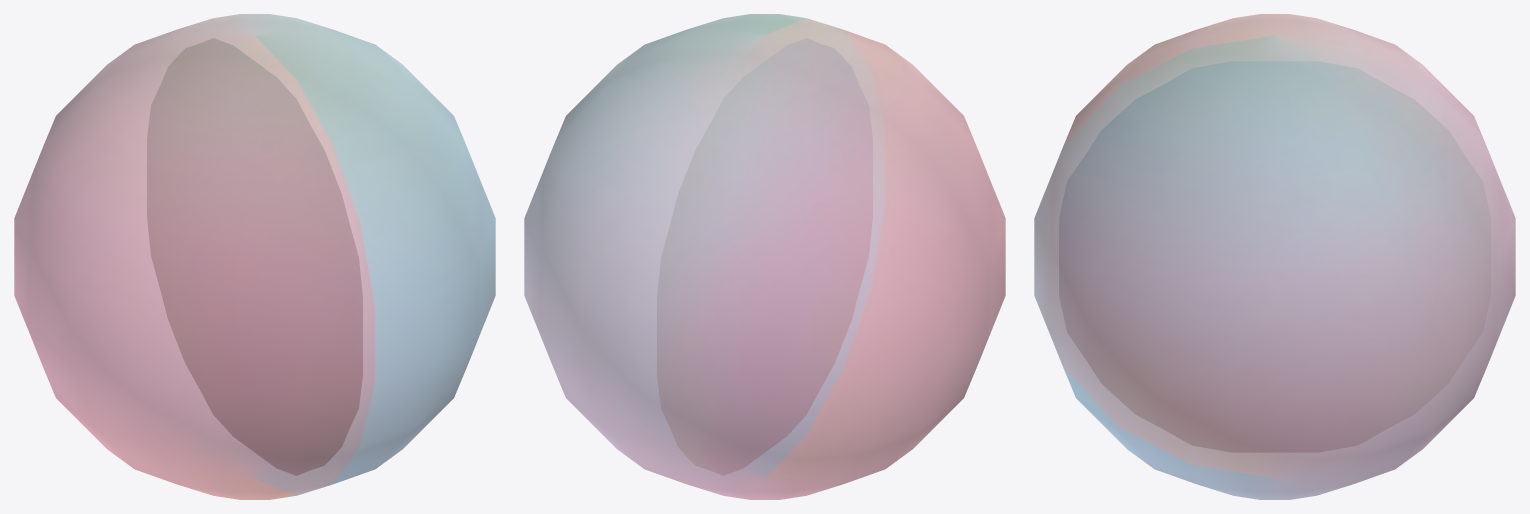
The model's file is bubble_test.glb.
3 views of the same model, side by side, from view 1: azimuth 30°, elevation 25°; view 2: azimuth 150°, elevation 25°; view 3: azimuth 270°, elevation 25° (orthographic).
Visible parts, largest first — view 1: Sphere001, Picture Plane; view 2: Sphere001, Picture Plane; view 3: Sphere001, Picture Plane.
Part boxes in pixels (x1=…): Sphere001: x1=14, y1=14, x2=495, y2=499; Picture Plane: x1=147, y1=38, x2=362, y2=475; Sphere001: x1=524, y1=14, x2=1005, y2=499; Picture Plane: x1=657, y1=38, x2=872, y2=475; Sphere001: x1=1034, y1=14, x2=1515, y2=499; Picture Plane: x1=1059, y1=61, x2=1490, y2=452.
Bounding box in the file's own units: 1.35 × 1.39 × 1.37.
Materials: 1 (1 with a texture image).
